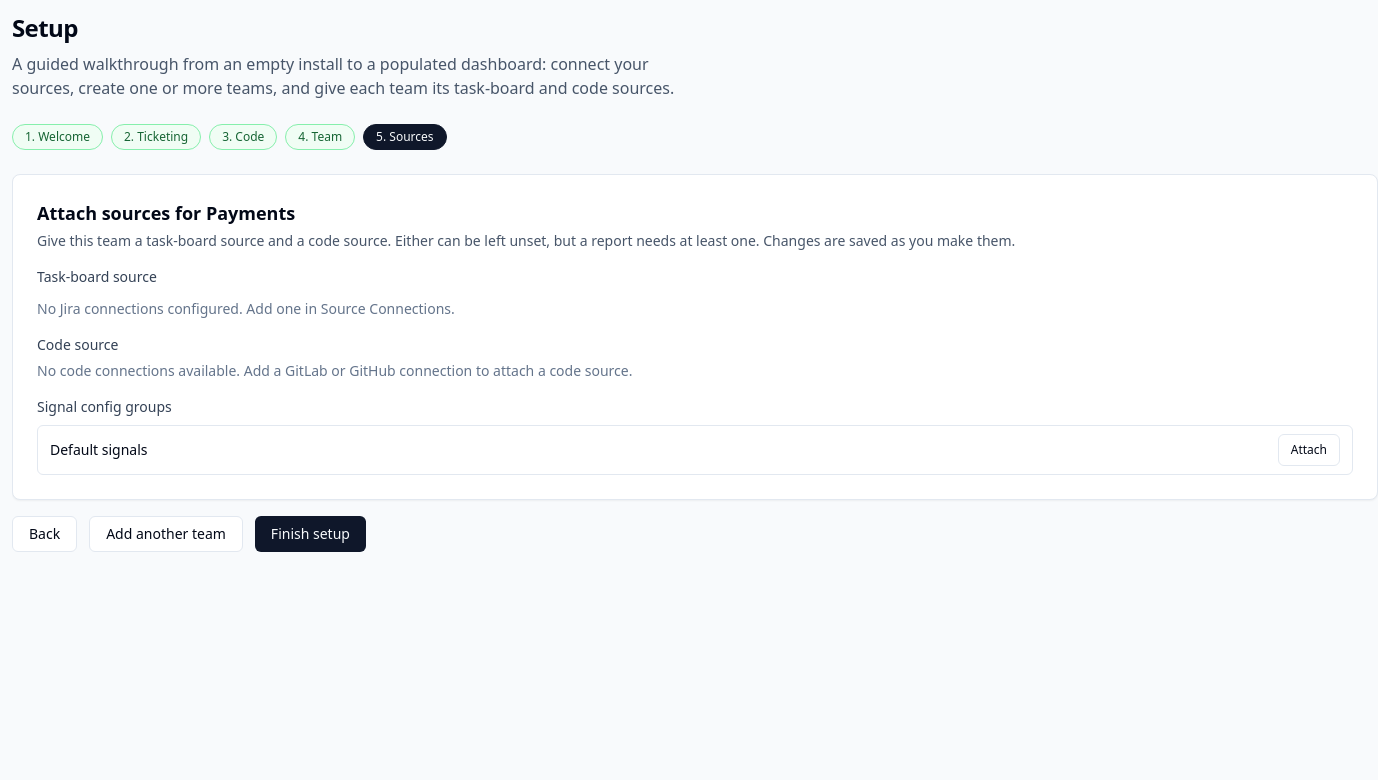
it: SetupPage wizard navigation (M8.5-05) › Sources pill is non-interactive after Add another team clears the current team
This screenshot has width=1378, height=780.
Expected: the heading "Attach sources for Payments" is shown, [37,201,295,225]
Click "Add another team" — clears currentTeamId and resets furthestStep to "team".
Click the button "Add another team" at (166, 534), box [89,516,243,552]
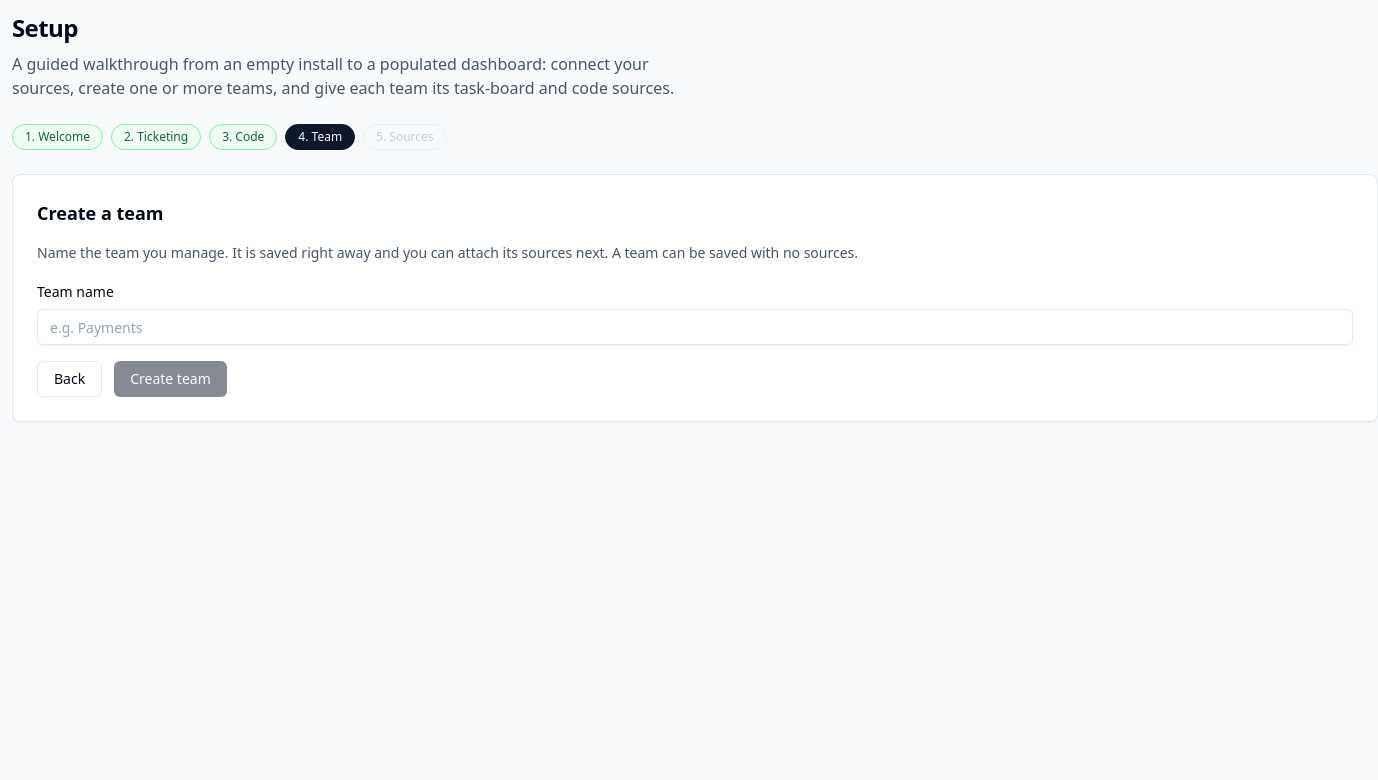
Expected: the heading "Create a team" is shown, [37,201,164,225]
